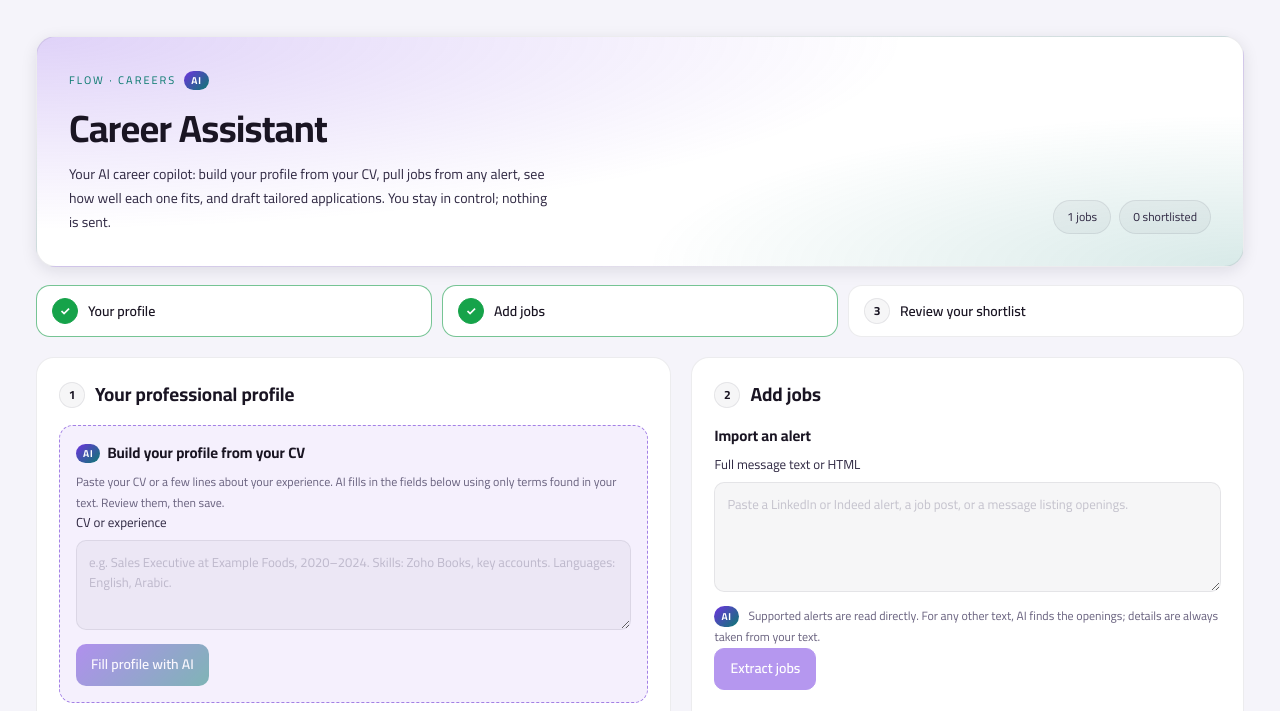
Scenario: Career assistant › asks the server to use AI for unsupported text and reports AI-found jobs
Replace the text in the text box labelled "Full message text or HTML" with "We are hiring a driver and a cashier". click: (968, 537)
box: [714, 482, 1221, 592]
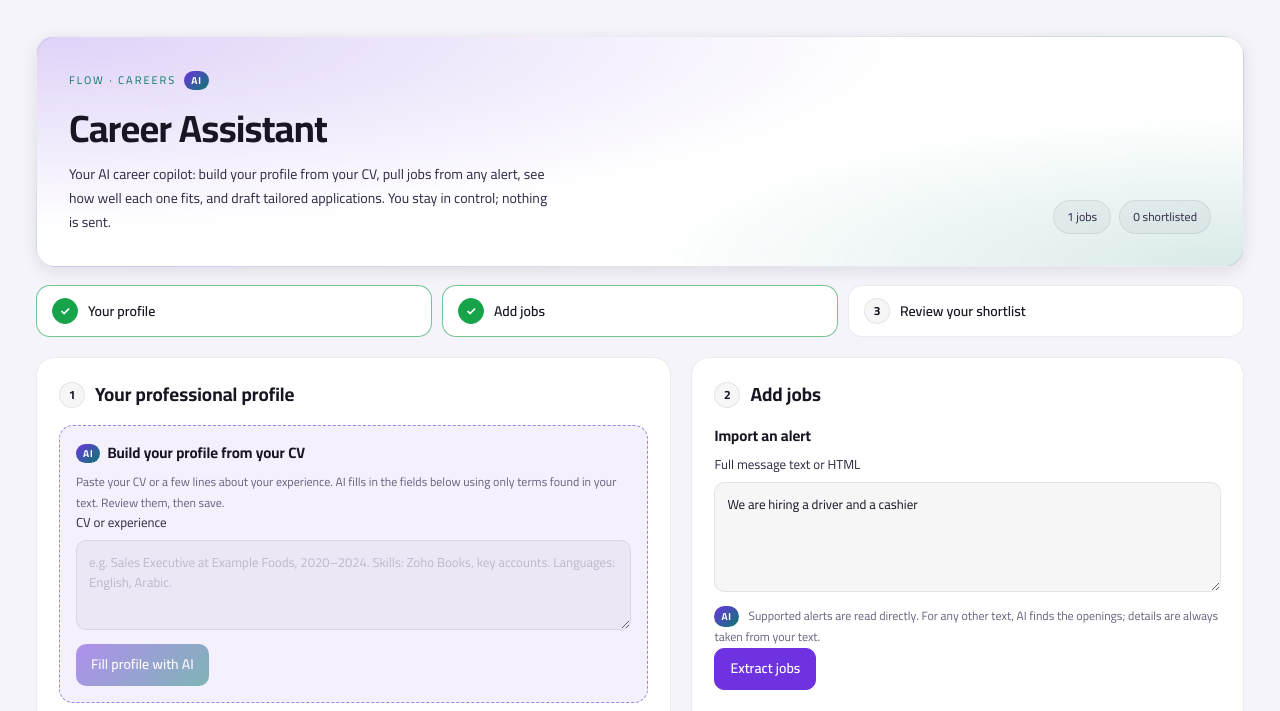
Click the button "Extract jobs". click: (765, 669)
box: [714, 648, 816, 690]
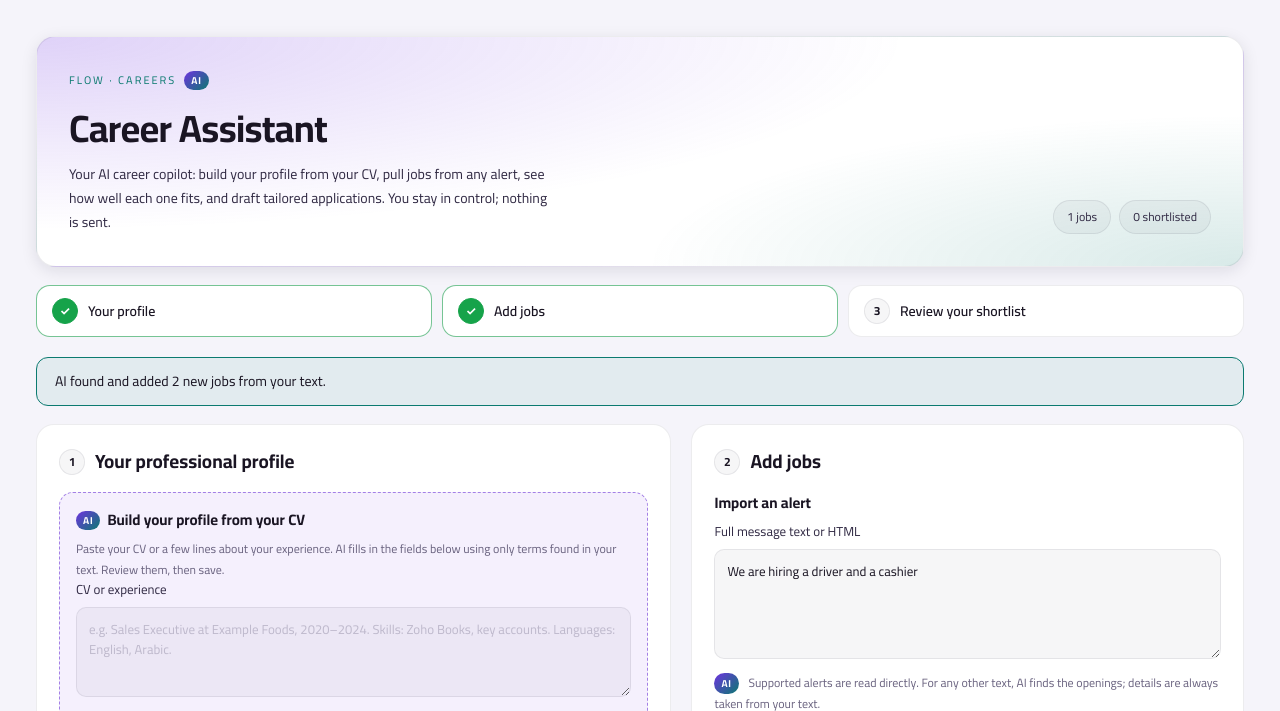
expect the text "AI found and added 2 new jobs from your text." is shown: met, box [36, 357, 1244, 406]
